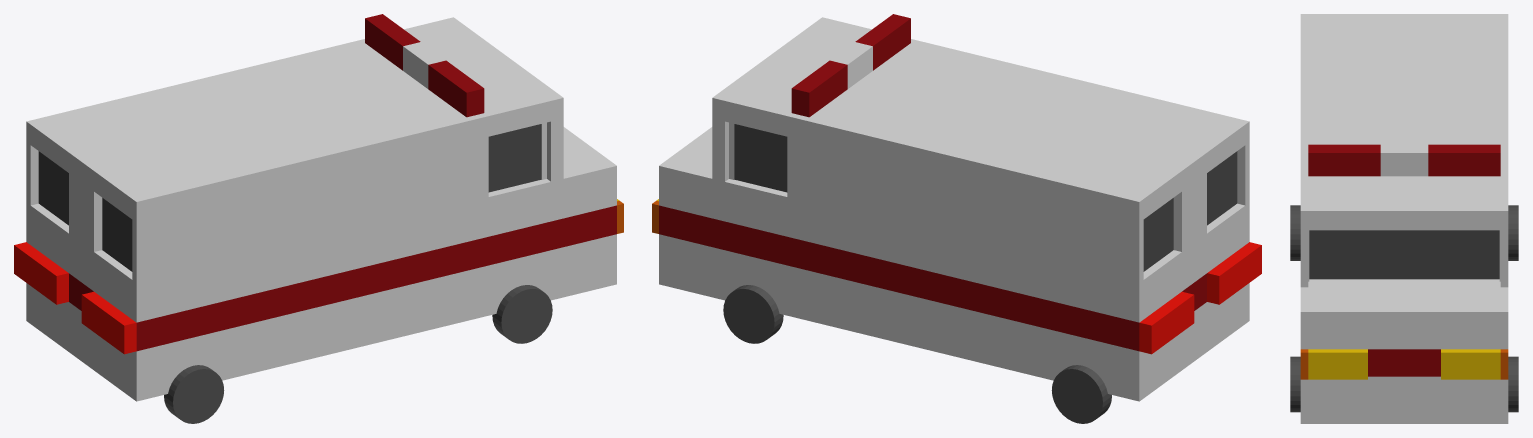
Rendered from Ambo.fbx.
3 renders of one model, left to right at view 1: azimuth 30°, elevation 25°; view 2: azimuth 150°, elevation 25°; view 3: azimuth 270°, elevation 25°, orthographic. The views are drawn at different scales.
Parts seen in each view (by area): view 1: Cube; view 2: Cube; view 3: Cube.
Part boxes in pixels (x1,y1,x2,y2): Cube: (14, 14, 623, 423); Cube: (652, 14, 1261, 423); Cube: (1290, 14, 1518, 423).
Bounding box in the file's own units: 524 × 256 × 219.
